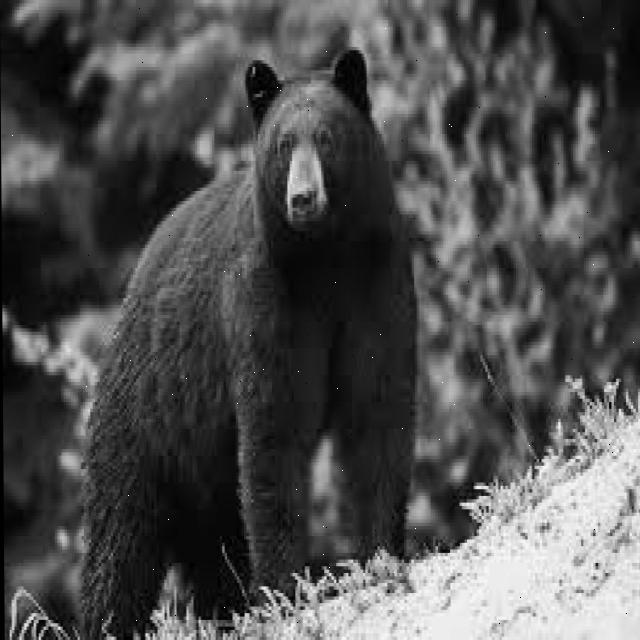Bear: (81, 45, 420, 640)
